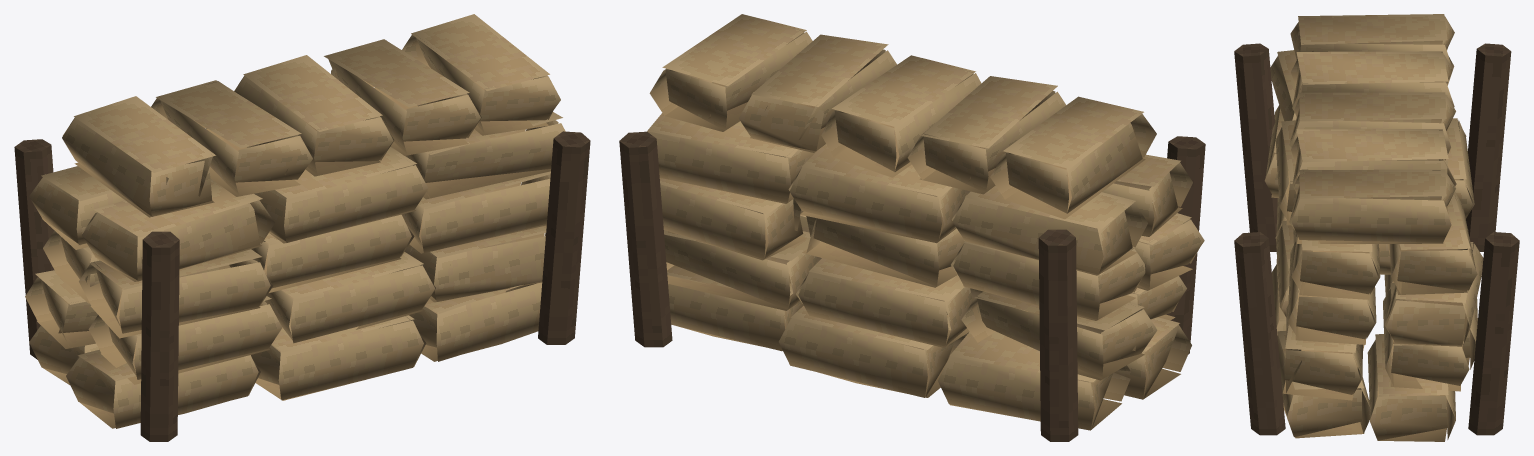
The model's file is sandbag_heavy.glb.
The picture shows the model from 3 angles, left to right: view 1: azimuth 30°, elevation 25°; view 2: azimuth 150°, elevation 25°; view 3: azimuth 270°, elevation 25°; orthographic projection. The views are drawn at different scales.
Parts seen in each view (by area): view 1: sandbag_heavy; view 2: sandbag_heavy; view 3: sandbag_heavy.
Boxes of the visible parts, x1=… form: sandbag_heavy: x1=14, y1=14, x2=590, y2=441; sandbag_heavy: x1=619, y1=14, x2=1205, y2=441; sandbag_heavy: x1=1234, y1=14, x2=1519, y2=441.
Size of the model in its own units: 2.15 by 1.08 by 1.17.
Materials: 1 (1 with a texture image).
